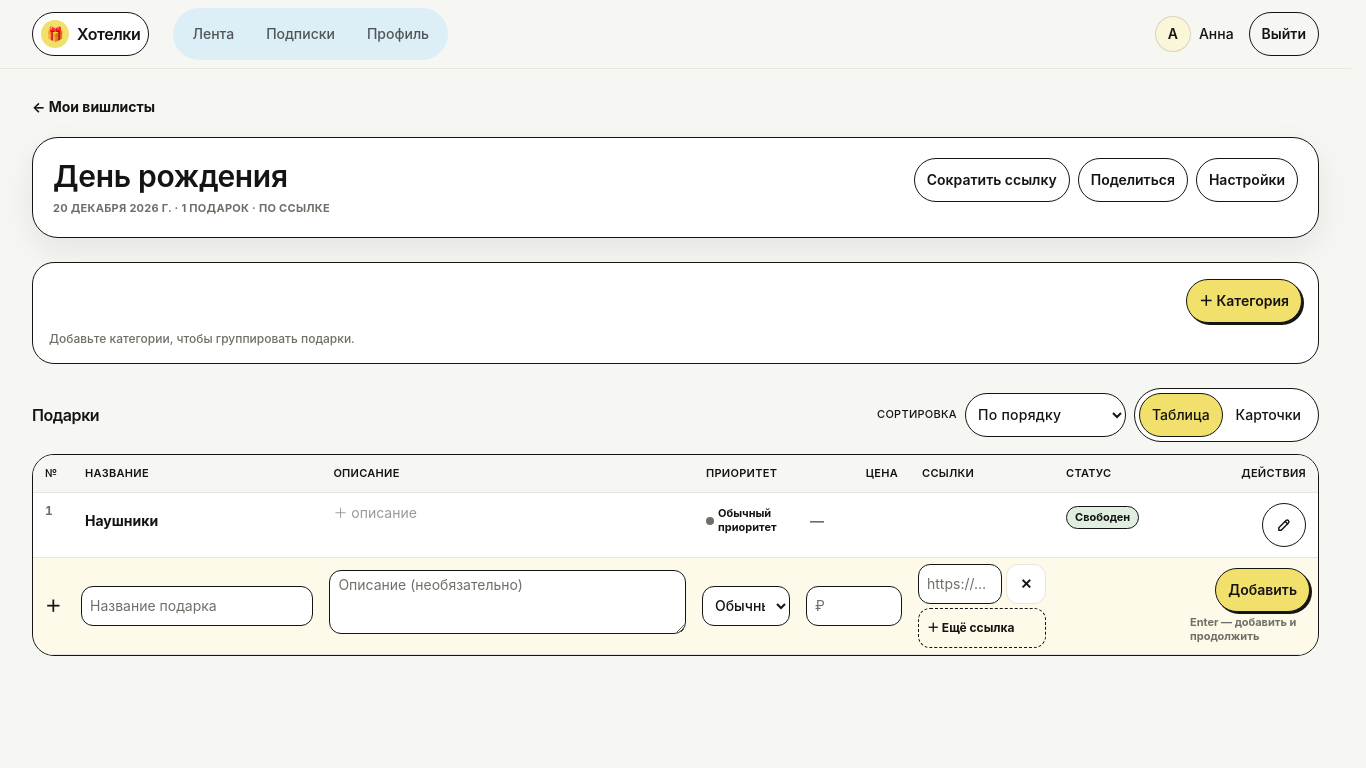
иконка редактирования и модалка › «Отмена» закрывает модалку без запросов и не меняет список
Expected: the text "Наушники" is shown, [85, 511, 158, 531]
Click the button named "Редактировать подарок". click: (1284, 525)
box: [1262, 503, 1306, 547]
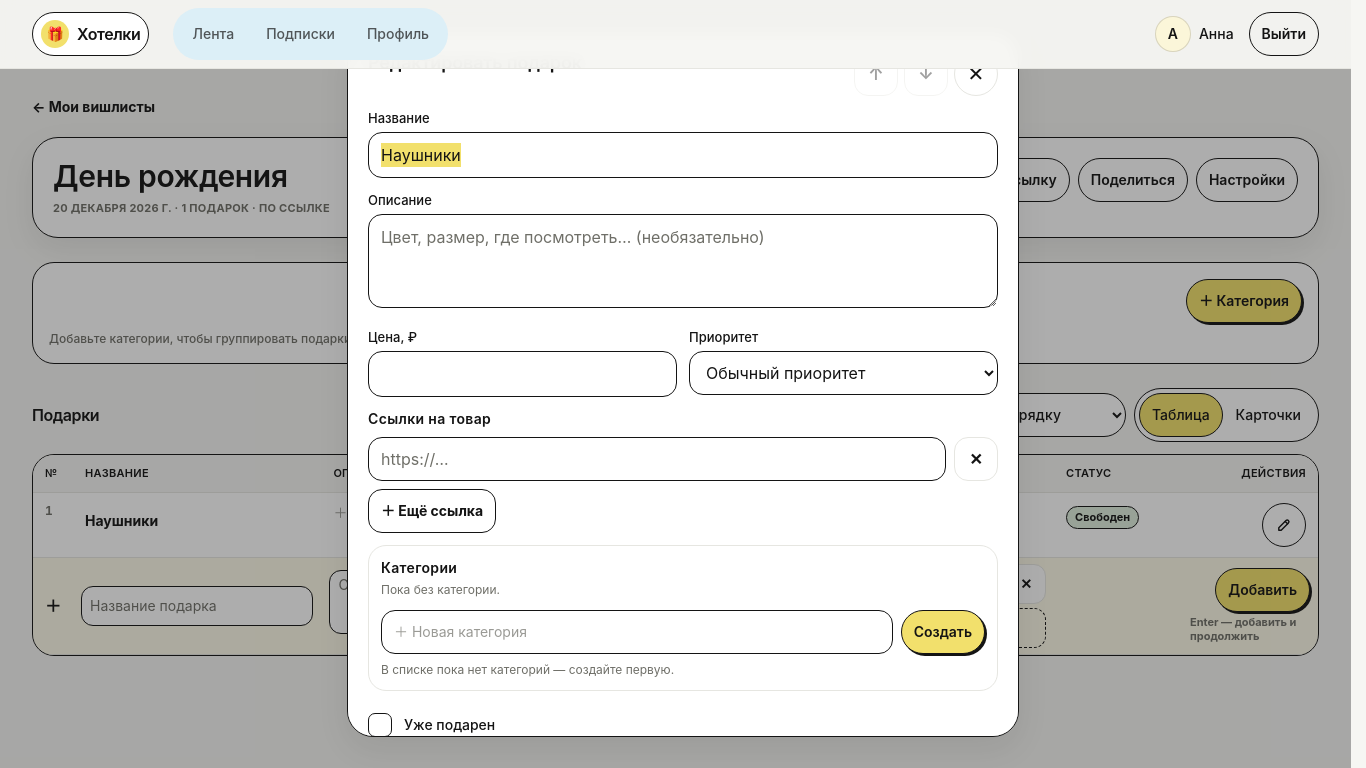
Replace the text in the field labelled "Название" with "Другое название". click: (683, 155)
box: [368, 132, 998, 178]
(page scrolled)
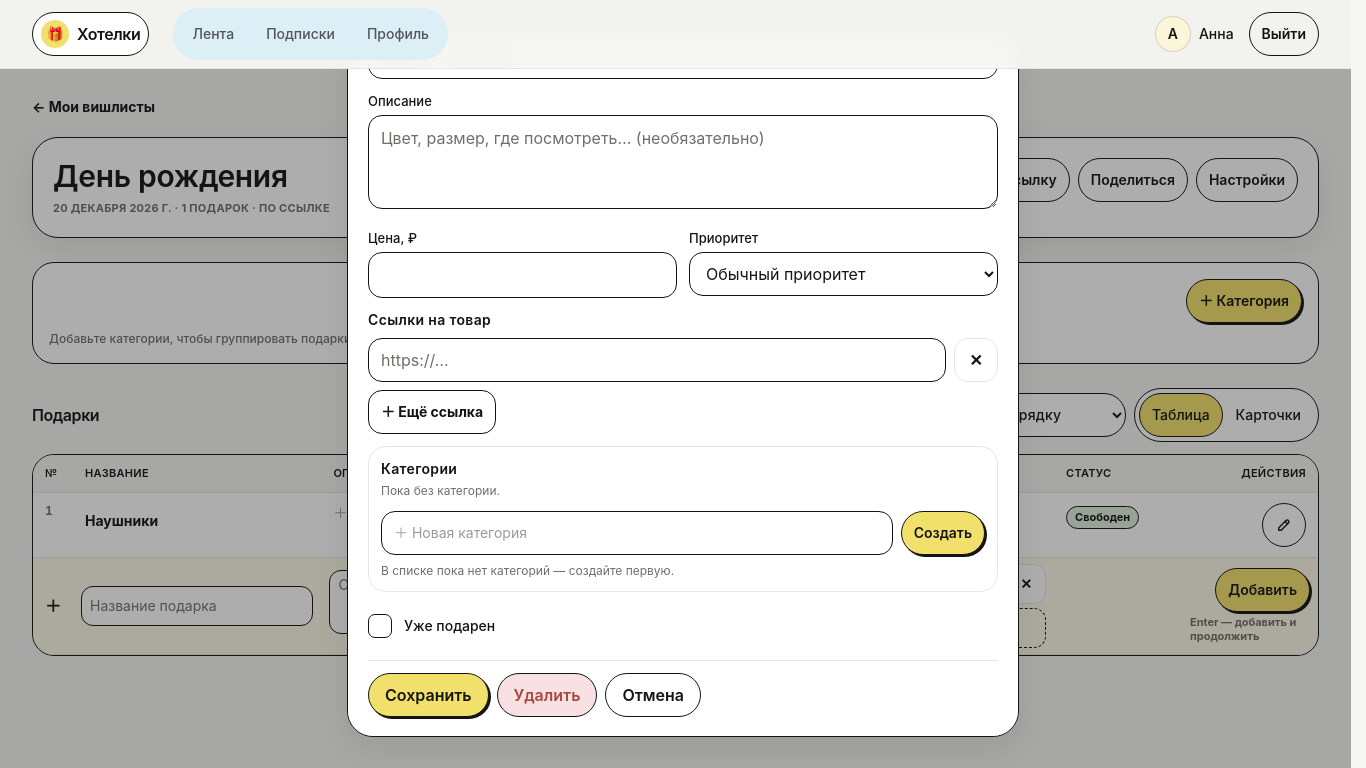
Click the button "Отмена". click: (653, 695)
box: [606, 673, 701, 717]
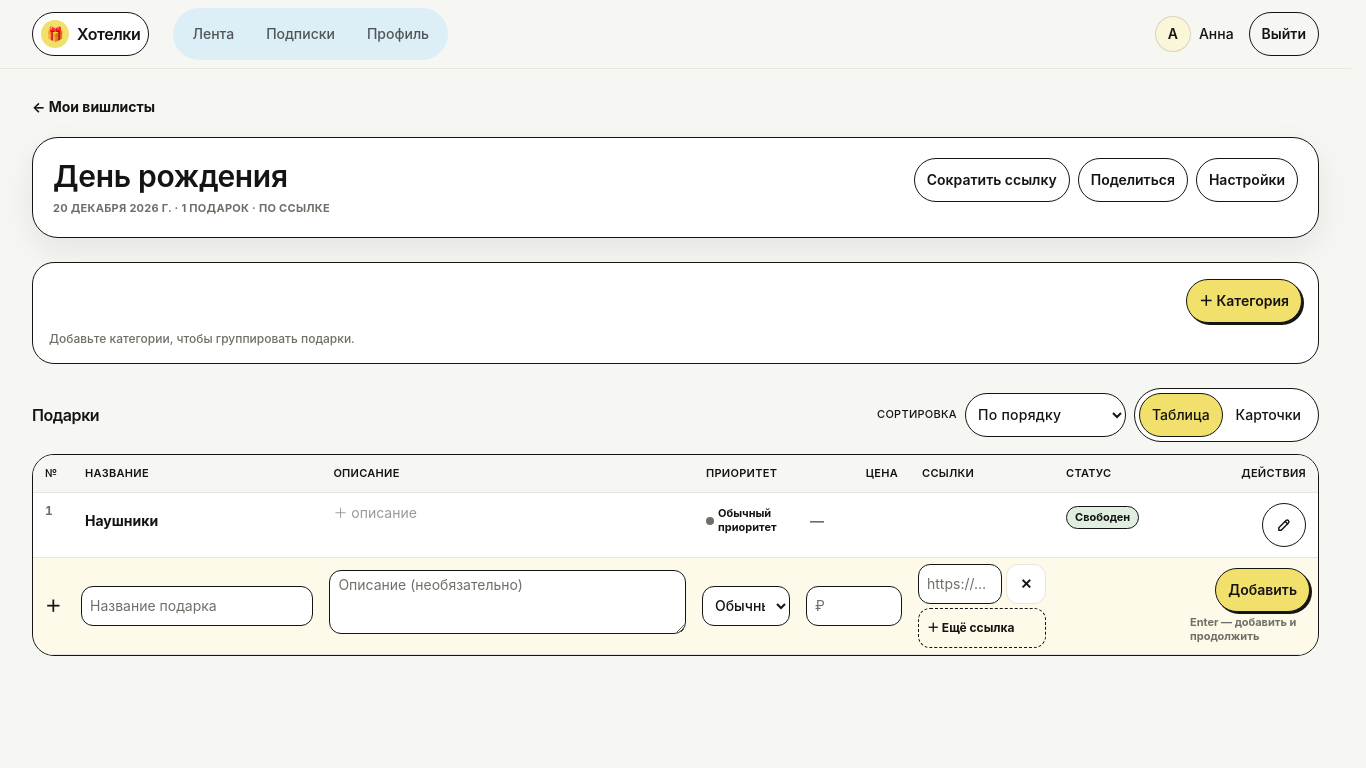
Expected: the text "Наушники" is shown, [85, 511, 158, 531]
Now the dialog is gone
